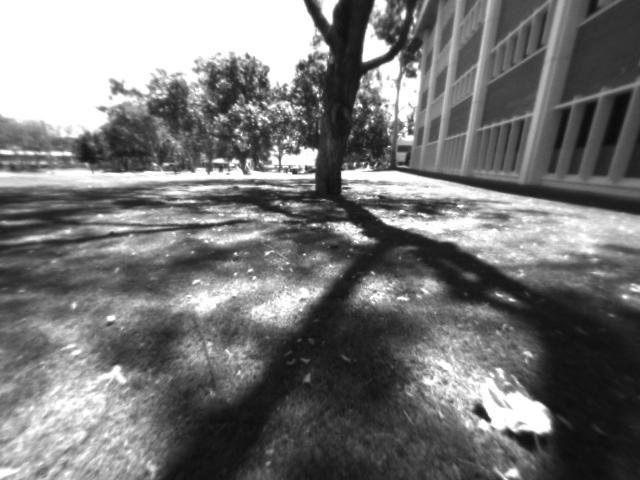dogtoy: (323, 236, 344, 254)
